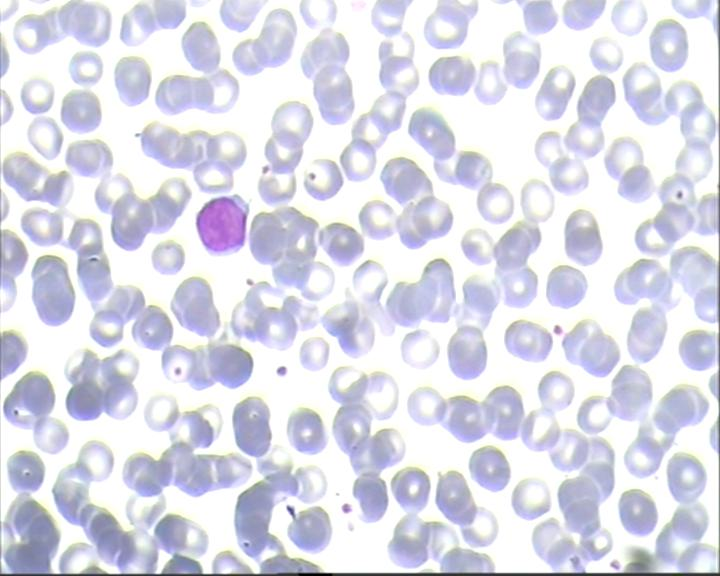lymp: (190, 190, 255, 258)
